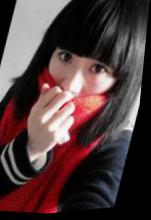WRONG: (27, 27, 135, 150)
